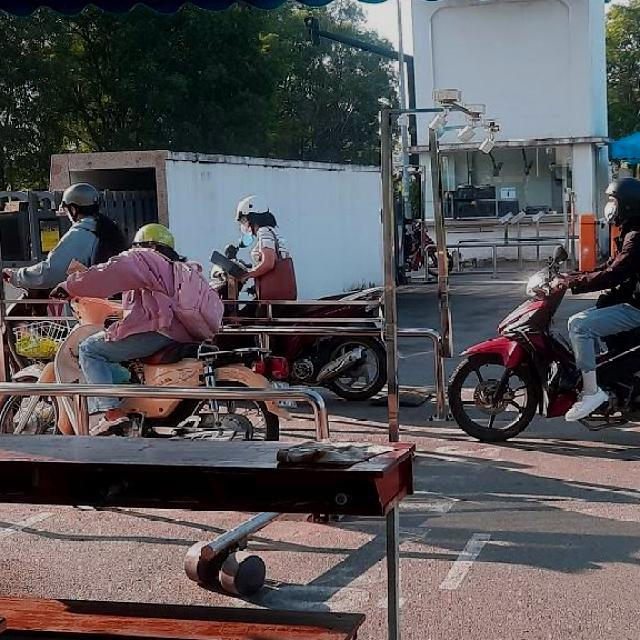Helmet: (231, 190, 276, 238), (600, 175, 640, 228), (58, 183, 98, 224)
